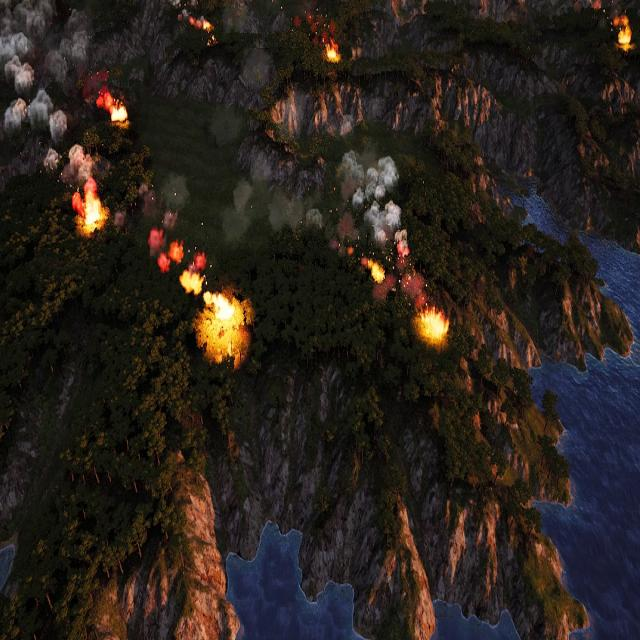fire: (149, 227, 203, 295), (198, 292, 246, 365), (74, 183, 106, 231), (95, 87, 126, 124), (419, 309, 448, 342), (364, 252, 385, 286), (616, 26, 634, 54), (192, 15, 213, 34), (327, 45, 338, 61)
smoke: (335, 152, 431, 308), (0, 0, 95, 132), (43, 142, 101, 186)
